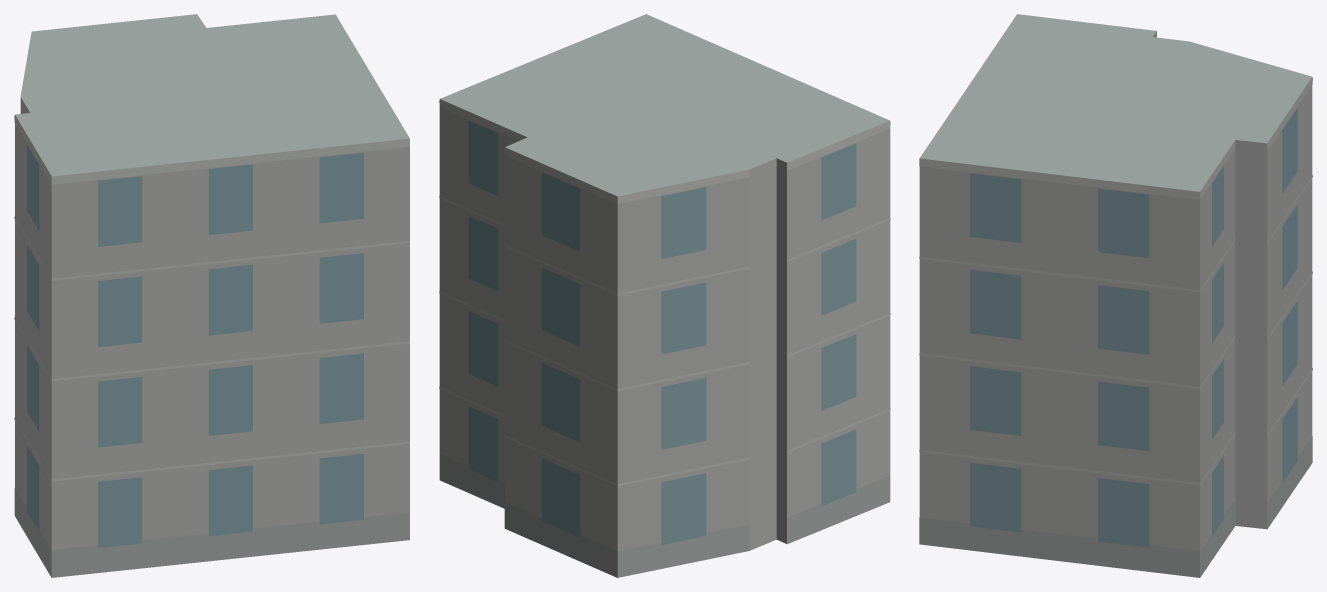
File: survey-upis-32654517.glb
3 renders of one model, left to right at view 1: azimuth 30°, elevation 25°; view 2: azimuth 150°, elevation 25°; view 3: azimuth 270°, elevation 25°, orthographic. The views are drawn at different scales.
Parts seen in each view (by area): view 1: survey-upis-32654517.tmp; view 2: survey-upis-32654517.tmp; view 3: survey-upis-32654517.tmp.
Boxes of the visible parts, box(x1,y1,x2,y2) form: survey-upis-32654517.tmp: box(14, 14, 409, 577); survey-upis-32654517.tmp: box(439, 14, 890, 577); survey-upis-32654517.tmp: box(919, 14, 1312, 577).
Size of the model in its own units: 11.69 by 11.8 by 10.91.
